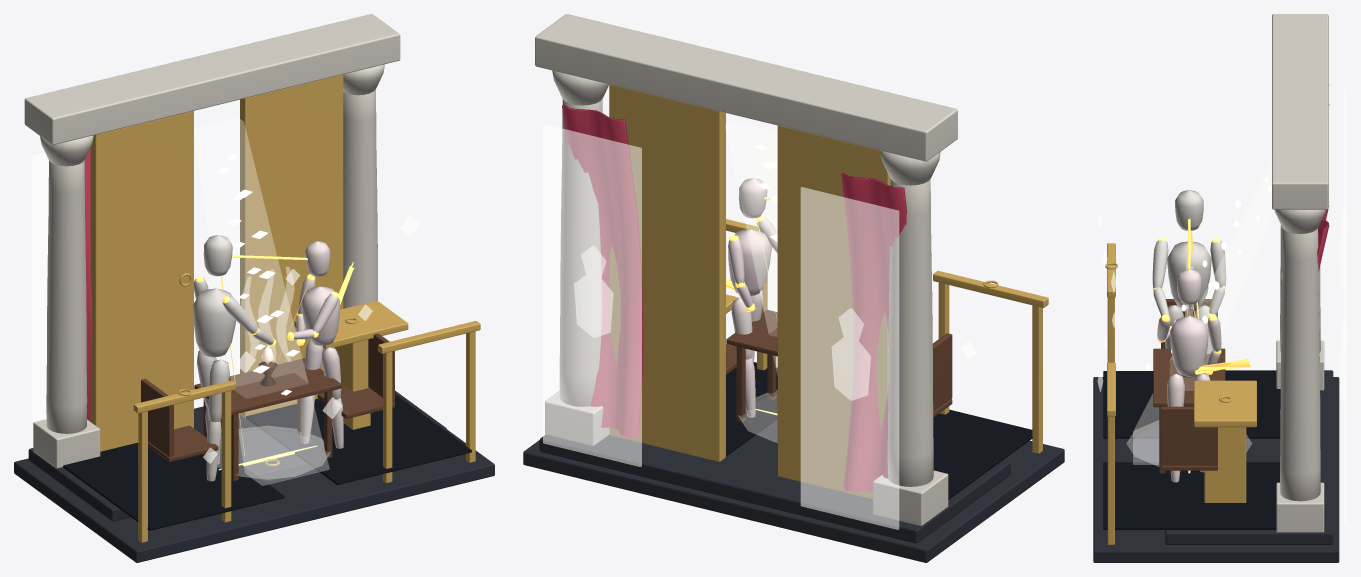
Rendered from webtoon-duo-rofan-gaze-24cm-gap-v29.glb.
The picture shows the model from 3 angles, left to right: view 1: azimuth 30°, elevation 25°; view 2: azimuth 150°, elevation 25°; view 3: azimuth 270°, elevation 25°; orthographic projection. The views are drawn at different scales.
Parts seen in each view (by area): view 1: Articulated_V29Duo1_Gaze_DoorsAndIkRig, V29Duo1_Gaze_PortalColonnade, Volumetric_V29Duo1_Gaze_GodRaySlit, V29Duo1_Gaze_DatumDeck, ShadowDrift_V29Duo1_Gaze_UmbraMask, Aftermath_V29Duo1_Gaze_DatumProps, DuoVrm_V29Duo1_Gaze_LeadA, DuoVrm_V29Duo1_Gaze_LeadB, HalfMirror_V29Duo1_Gaze_FresnelReflection, AftermathDust_V29Duo1_Gaze_PlumeLobes, ThermalHaze_V29Duo1_Gaze_ConvectiveRibbons, WindDrape_V29Duo1_Gaze_CatenaryPair (+3 smaller); view 2: Articulated_V29Duo1_Gaze_DoorsAndIkRig, HalfMirror_V29Duo1_Gaze_FresnelReflection, V29Duo1_Gaze_PortalColonnade, V29Duo1_Gaze_DatumDeck, WindDrape_V29Duo1_Gaze_CatenaryPair, ShadowDrift_V29Duo1_Gaze_UmbraMask, Volumetric_V29Duo1_Gaze_GodRaySlit, DuoVrm_V29Duo1_Gaze_LeadB, Aftermath_V29Duo1_Gaze_DatumProps, AftermathDust_V29Duo1_Gaze_PlumeLobes; view 3: V29Duo1_Gaze_PortalColonnade, V29Duo1_Gaze_DatumDeck, ShadowDrift_V29Duo1_Gaze_UmbraMask, Articulated_V29Duo1_Gaze_DoorsAndIkRig, Volumetric_V29Duo1_Gaze_GodRaySlit, Aftermath_V29Duo1_Gaze_DatumProps, DuoVrm_V29Duo1_Gaze_LeadA, DuoVrm_V29Duo1_Gaze_LeadB, HalfMirror_V29Duo1_Gaze_FresnelReflection, AftermathDust_V29Duo1_Gaze_PlumeLobes, DuoVrm_V29Duo1_Gaze_EyelineAndAxis180, Atmospheric_V29Duo1_Gaze_MidMotes (+2 smaller).
Part boxes in pixels (x1=…): Articulated_V29Duo1_Gaze_DoorsAndIkRig: x1=90, y1=74, x2=480, y2=542; V29Duo1_Gaze_PortalColonnade: x1=24, y1=14, x2=400, y2=468; Volumetric_V29Duo1_Gaze_GodRaySlit: x1=194, y1=118, x2=329, y2=485; V29Duo1_Gaze_DatumDeck: x1=14, y1=390, x2=494, y2=562; ShadowDrift_V29Duo1_Gaze_UmbraMask: x1=63, y1=394, x2=471, y2=530; Aftermath_V29Duo1_Gaze_DatumProps: x1=141, y1=333, x2=394, y2=480; DuoVrm_V29Duo1_Gaze_LeadA: x1=193, y1=235, x2=273, y2=481; DuoVrm_V29Duo1_Gaze_LeadB: x1=293, y1=241, x2=343, y2=448; HalfMirror_V29Duo1_Gaze_FresnelReflection: x1=31, y1=152, x2=48, y2=438; AftermathDust_V29Duo1_Gaze_PlumeLobes: x1=218, y1=426, x2=330, y2=479; ThermalHaze_V29Duo1_Gaze_ConvectiveRibbons: x1=241, y1=267, x2=294, y2=362; WindDrape_V29Duo1_Gaze_CatenaryPair: x1=84, y1=148, x2=92, y2=421; Articulated_V29Duo1_Gaze_DoorsAndIkRig: x1=609, y1=84, x2=1048, y2=499; HalfMirror_V29Duo1_Gaze_FresnelReflection: x1=543, y1=124, x2=899, y2=529; V29Duo1_Gaze_PortalColonnade: x1=535, y1=14, x2=957, y2=525; V29Duo1_Gaze_DatumDeck: x1=523, y1=419, x2=1064, y2=562; WindDrape_V29Duo1_Gaze_CatenaryPair: x1=562, y1=104, x2=906, y2=492; ShadowDrift_V29Duo1_Gaze_UmbraMask: x1=726, y1=362, x2=1032, y2=499; Volumetric_V29Duo1_Gaze_GodRaySlit: x1=725, y1=121, x2=777, y2=374; DuoVrm_V29Duo1_Gaze_LeadB: x1=728, y1=178, x2=777, y2=417; Aftermath_V29Duo1_Gaze_DatumProps: x1=726, y1=309, x2=952, y2=422; AftermathDust_V29Duo1_Gaze_PlumeLobes: x1=739, y1=390, x2=777, y2=442; V29Duo1_Gaze_PortalColonnade: x1=1272, y1=14, x2=1328, y2=532; V29Duo1_Gaze_DatumDeck: x1=1093, y1=370, x2=1339, y2=562; ShadowDrift_V29Duo1_Gaze_UmbraMask: x1=1103, y1=371, x2=1280, y2=529; Articulated_V29Duo1_Gaze_DoorsAndIkRig: x1=1105, y1=243, x2=1282, y2=544; Volumetric_V29Duo1_Gaze_GodRaySlit: x1=1133, y1=163, x2=1274, y2=464; Aftermath_V29Duo1_Gaze_DatumProps: x1=1153, y1=299, x2=1225, y2=473; DuoVrm_V29Duo1_Gaze_LeadA: x1=1152, y1=190, x2=1226, y2=354; DuoVrm_V29Duo1_Gaze_LeadB: x1=1157, y1=269, x2=1221, y2=482; HalfMirror_V29Duo1_Gaze_FresnelReflection: x1=1339, y1=89, x2=1346, y2=525; AftermathDust_V29Duo1_Gaze_PlumeLobes: x1=1127, y1=420, x2=1251, y2=466; DuoVrm_V29Duo1_Gaze_EyelineAndAxis180: x1=1153, y1=219, x2=1250, y2=473; Atmospheric_V29Duo1_Gaze_MidMotes: x1=1146, y1=176, x2=1271, y2=369.
Bounding box in the file's own units: 2.76 × 3.18 × 1.69.
